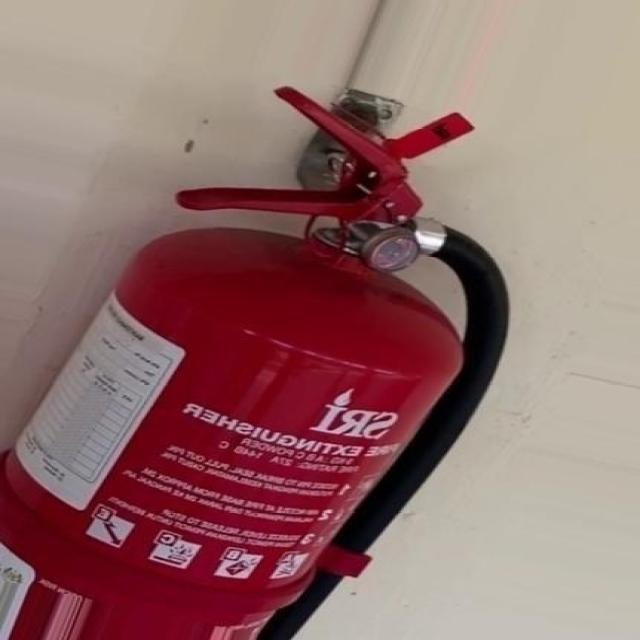fire_extinguisher: (0, 80, 523, 639)
